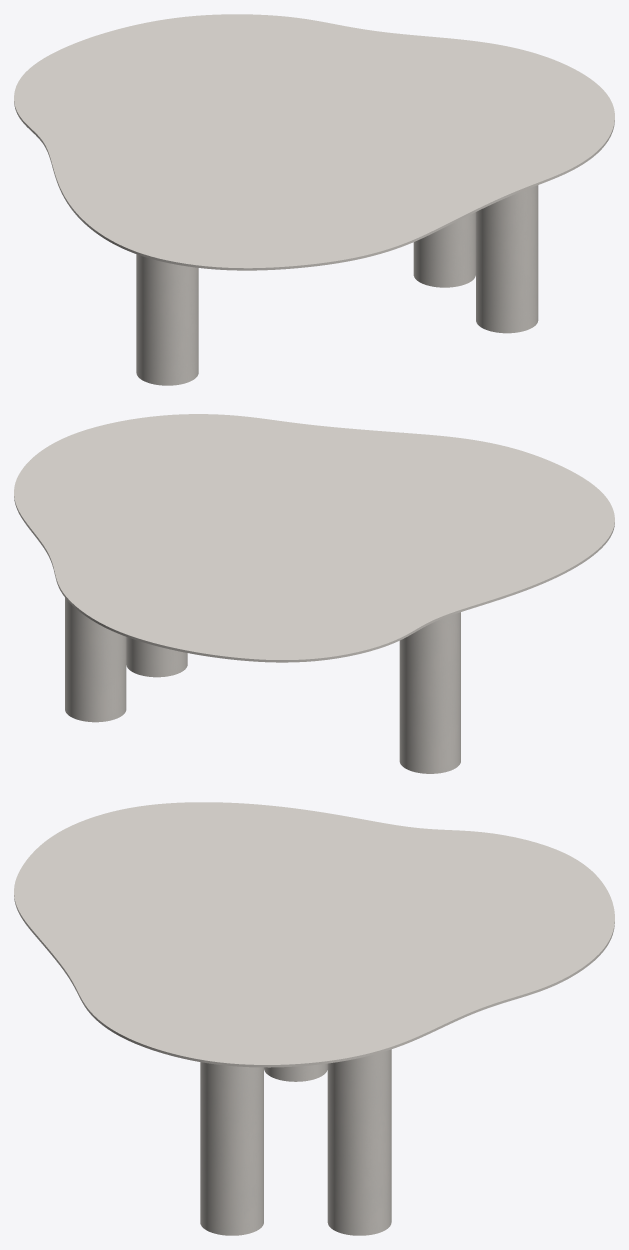
Rendered from pearlwhite_topone_facet_cylinder.glb.
3 renders of one model, top to bottom at view 1: azimuth 30°, elevation 25°; view 2: azimuth 150°, elevation 25°; view 3: azimuth 270°, elevation 25°, orthographic. The views are drawn at different scales.
Parts seen in each view (by area): view 1: facet_topone, cylinder; view 2: facet_topone, cylinder; view 3: facet_topone, cylinder.
Part boxes in pixels (x1,y1,x2,y2): facet_topone: (14, 14, 614, 270); cylinder: (136, 185, 538, 385); facet_topone: (14, 414, 614, 662); cylinder: (65, 598, 460, 773); facet_topone: (14, 802, 614, 1067); cylinder: (200, 1049, 391, 1235).
Size of the model in its own units: 6.83 by 2.52 by 6.6.
1 material, 1 textured.
